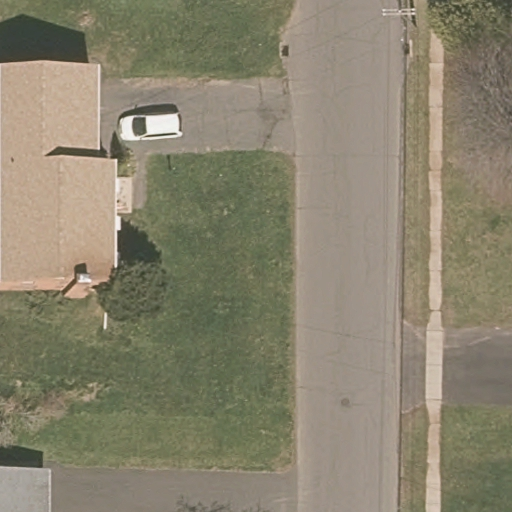DT: (379, 4, 418, 20)
